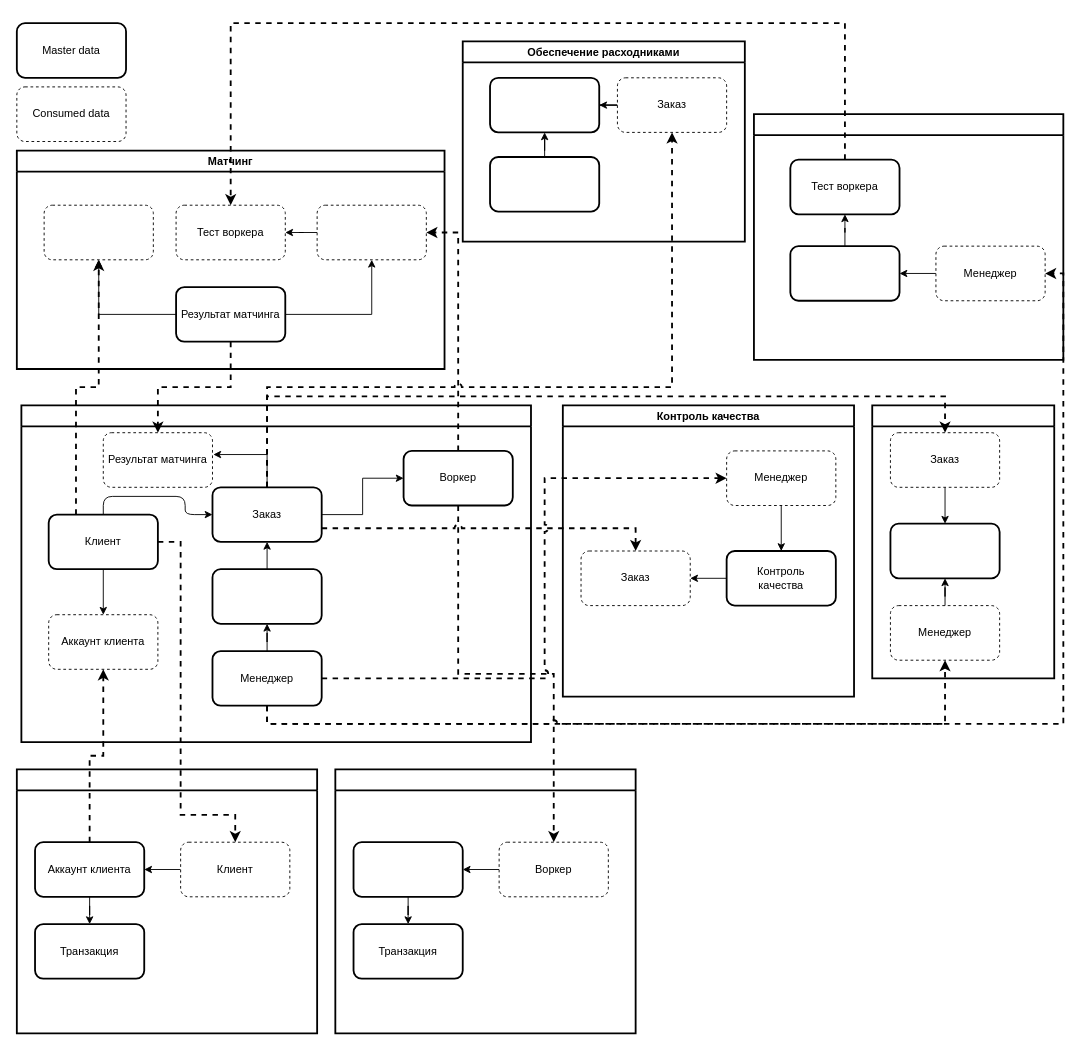
Image size: 1087x1049. Some labels were removed from this diagram. Here are the shapes that lost their labels. From the top down, the box of each, then its label:
(489, 76, 600, 133): Материалы
(489, 156, 600, 212): Сотрудник
(43, 204, 153, 260): Эталонный образец
(316, 204, 426, 260): Обычный образец
(753, 113, 1064, 360): Тестирование и определение характеристик
(789, 245, 900, 301): Заявка воркера
(889, 522, 1000, 579): Ставка
(871, 404, 1055, 679): Ставки
(20, 404, 531, 743): Выполнение заказа
(211, 568, 322, 624): Услуга
(352, 841, 463, 897): Аккаунт воркера
(15, 768, 318, 1034): Расчеты с клиентом
(334, 768, 636, 1034): Расчеты и начисления воркеру
